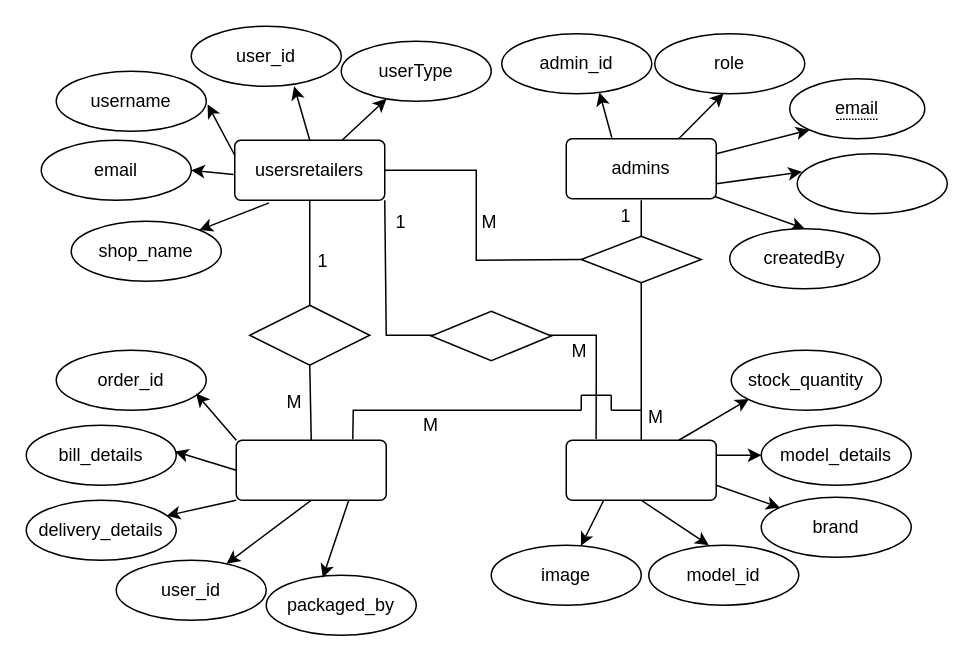
This 974x662 diagram has some shape labels left out. Here are the shapes that lost their labels. From the top down, the centre of each, then its label:
At (871,183): "adminname".
At (640,259): "manages".
At (309,334): "places".
At (490,335): "views".
At (310,469): "orders".
At (640,469): "footwear_models".
